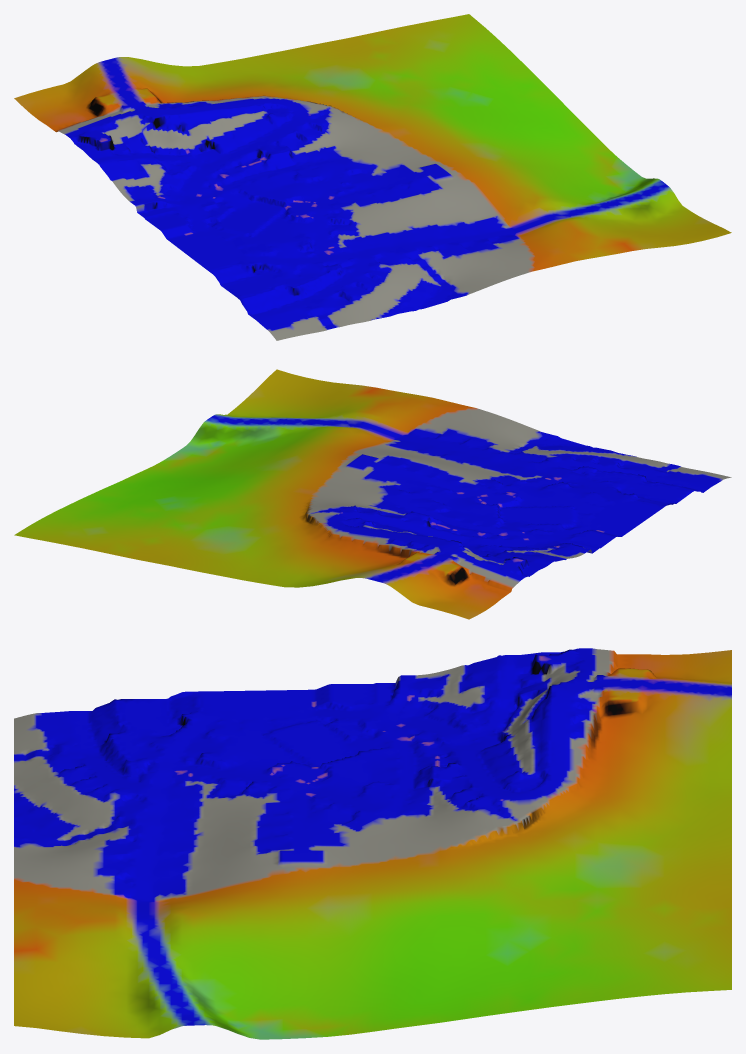
The model's file is SM_BM_BT_Terrain_4_2.glb.
3 renders of one model, top to bottom at view 1: azimuth 30°, elevation 25°; view 2: azimuth 150°, elevation 25°; view 3: azimuth 270°, elevation 25°, orthographic. The views are drawn at different scales.
Visible parts, largest first — view 1: SM_BM_BT_Terrain_4_2; view 2: SM_BM_BT_Terrain_4_2; view 3: SM_BM_BT_Terrain_4_2.
Part boxes in pixels (<box>): SM_BM_BT_Terrain_4_2: <box>14,14,731,340</box>; SM_BM_BT_Terrain_4_2: <box>14,369,731,619</box>; SM_BM_BT_Terrain_4_2: <box>14,648,731,1039</box>.
Size of the model in its own units: 256 by 42.71 by 256.
